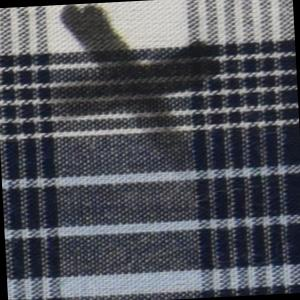Stain: (47, 1, 230, 173)
